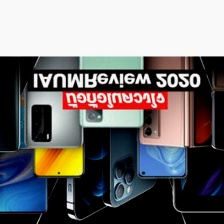phone: (62, 76, 146, 222), (172, 45, 224, 216), (0, 58, 51, 217), (20, 33, 89, 149), (76, 19, 146, 133), (99, 93, 165, 212), (28, 78, 92, 183), (136, 41, 196, 149), (132, 88, 191, 180), (0, 37, 25, 155), (207, 33, 224, 155)
